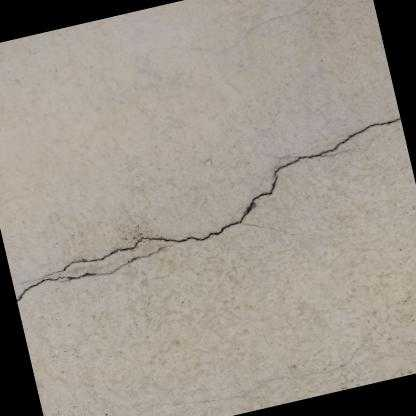crack: (15, 116, 402, 305)
